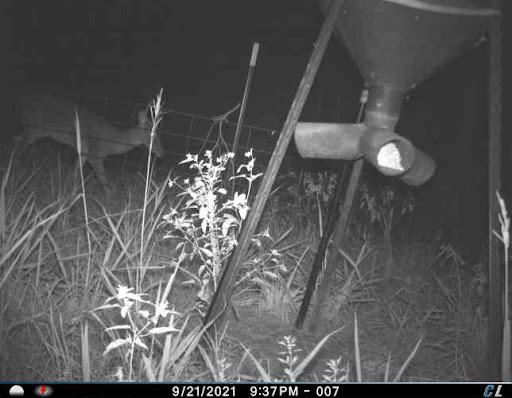Deer: (6, 79, 174, 195)
